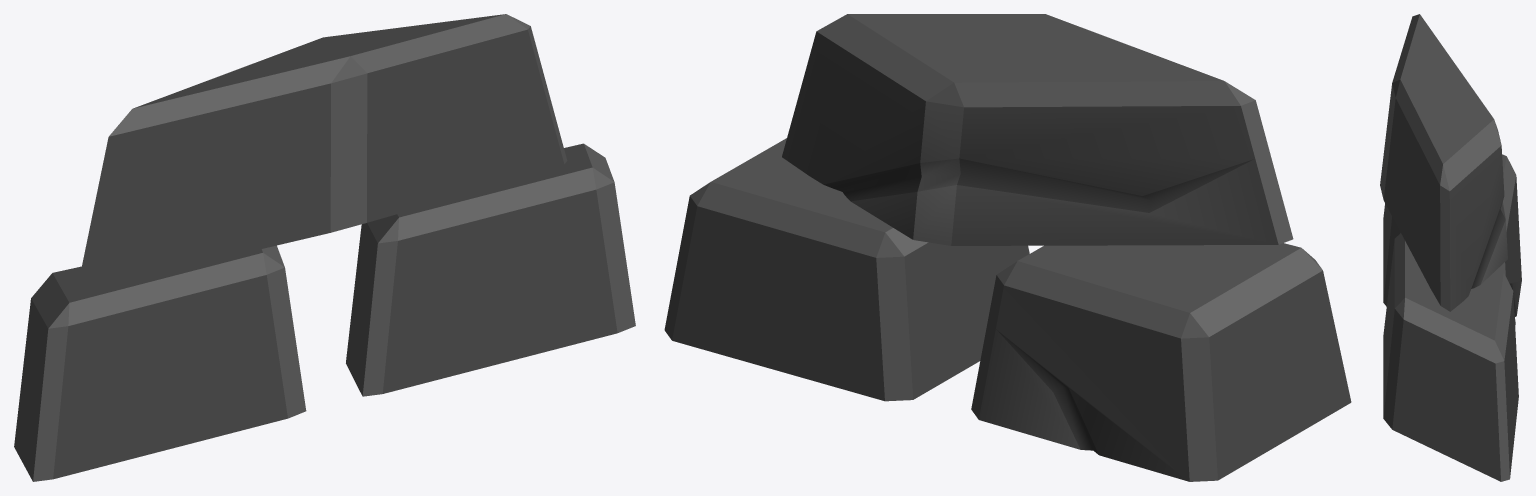
File: icon_stone_color.fbx
3 views of the same model, side by side, from view 1: azimuth 30°, elevation 25°; view 2: azimuth 150°, elevation 25°; view 3: azimuth 270°, elevation 25° (orthographic). The views are drawn at different scales.
Visible parts, largest first — view 1: icon_stone; view 2: icon_stone; view 3: icon_stone.
Part boxes in pixels (<box>): icon_stone: <box>14,14,635,481</box>; icon_stone: <box>664,14,1351,481</box>; icon_stone: <box>1380,14,1521,481</box>.
Bounding box in the file's own units: 39.07 × 21.64 × 9.7.
